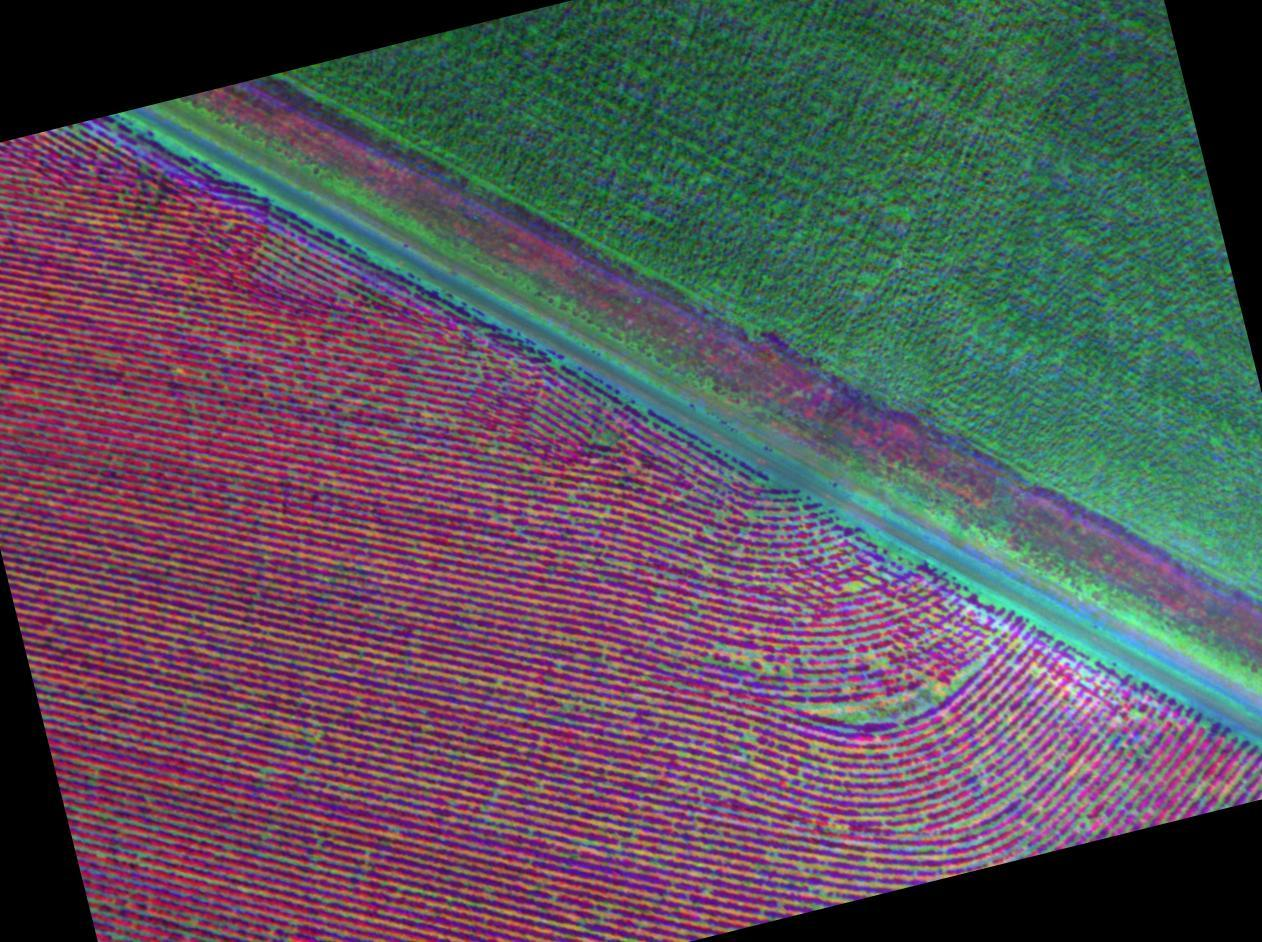dc: (788, 675, 1015, 744), (693, 728, 788, 815), (816, 550, 923, 622), (956, 780, 1049, 853), (683, 625, 778, 696)
